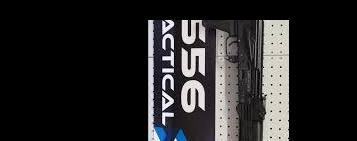larga: (203, 20, 268, 141)
